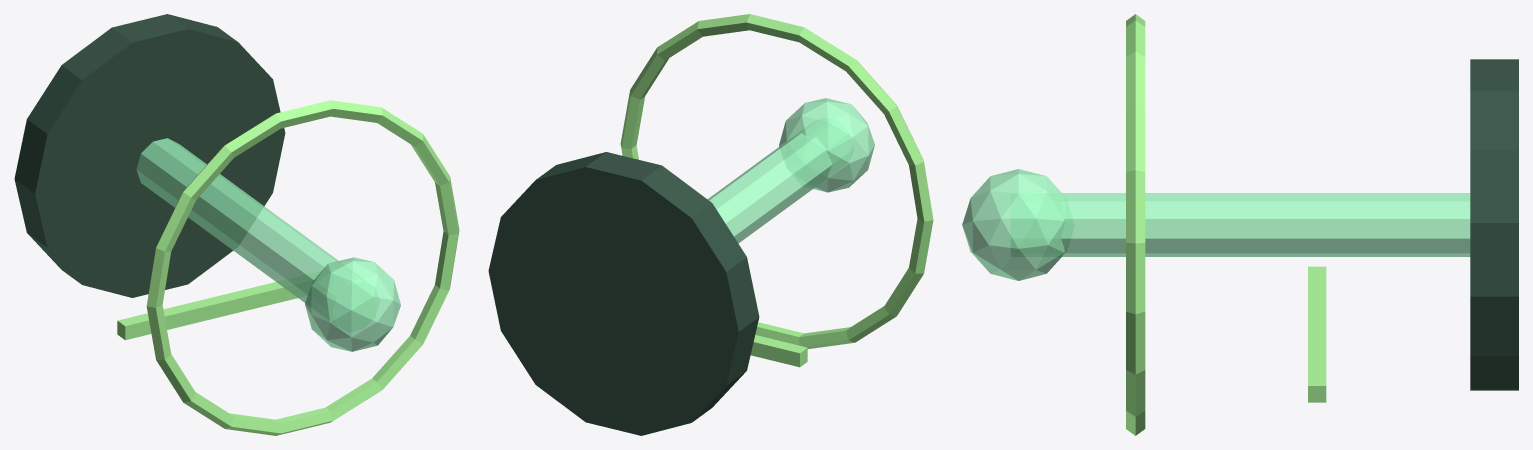
The model's file is 08_support_npc_assist_marker.glb.
3 views of the same model, side by side, from view 1: azimuth 30°, elevation 25°; view 2: azimuth 150°, elevation 25°; view 3: azimuth 270°, elevation 25° (orthographic). The views are drawn at different scales.
Parts seen in each view (by area): view 1: assist_beacon_base, support_lock_ring, assist_column, npc_signal_core, support_direction_marker; view 2: assist_beacon_base, support_lock_ring, assist_column, npc_signal_core, support_direction_marker; view 3: assist_column, assist_beacon_base, npc_signal_core, support_lock_ring, support_direction_marker.
Boxes of the visible parts, x1=… form: assist_beacon_base: x1=14, y1=14, x2=285, y2=297; support_lock_ring: x1=146, y1=100, x2=459, y2=435; assist_column: x1=136, y1=138, x2=338, y2=302; npc_signal_core: x1=305, y1=257, x2=400, y2=351; support_direction_marker: x1=117, y1=271, x2=320, y2=340; assist_beacon_base: x1=488, y1=152, x2=759, y2=435; support_lock_ring: x1=620, y1=14, x2=933, y2=348; assist_column: x1=707, y1=133, x2=832, y2=243; npc_signal_core: x1=779, y1=98, x2=874, y2=192; support_direction_marker: x1=750, y1=335, x2=807, y2=367; assist_column: x1=1061, y1=193, x2=1470, y2=256; assist_beacon_base: x1=1470, y1=59, x2=1518, y2=390; npc_signal_core: x1=962, y1=169, x2=1065, y2=280; support_lock_ring: x1=1126, y1=14, x2=1145, y2=435; support_direction_marker: x1=1308, y1=266, x2=1326, y2=402.
Bounding box in the file's own units: 1.05 × 1.03 × 1.38.
